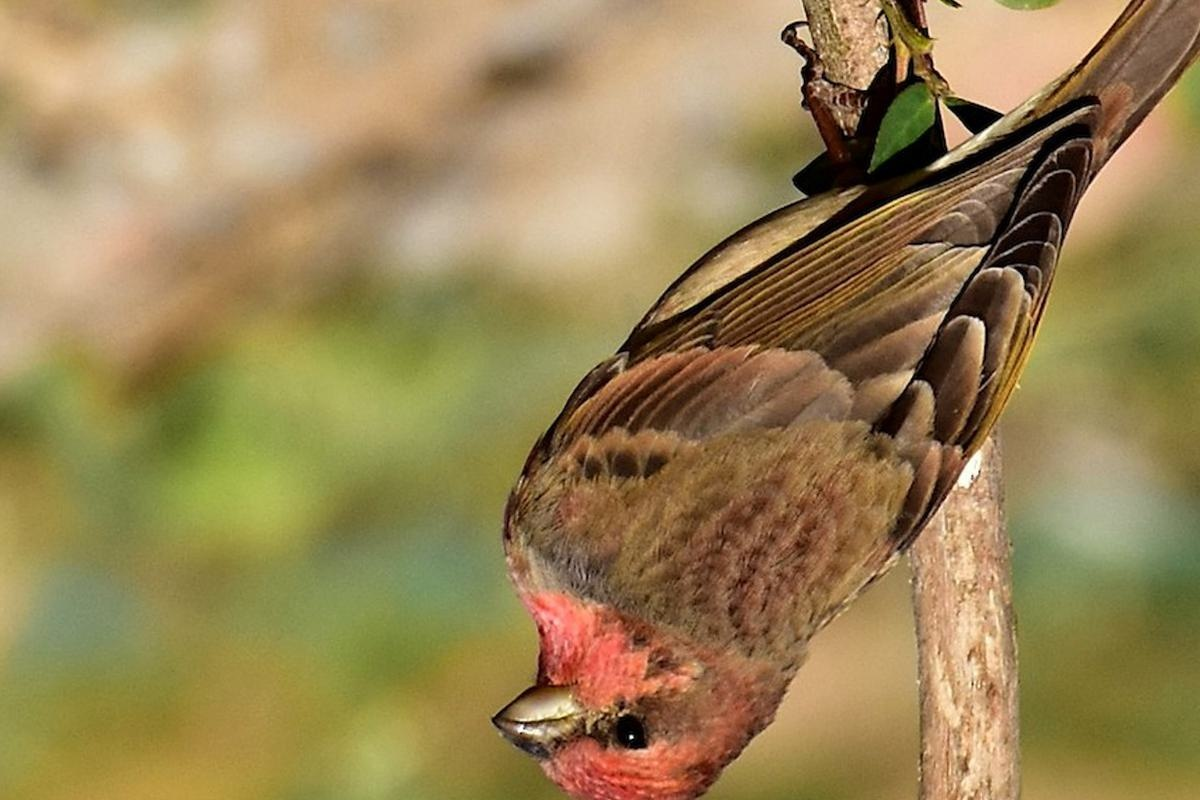rosefinch: (485, 130, 1066, 794)
